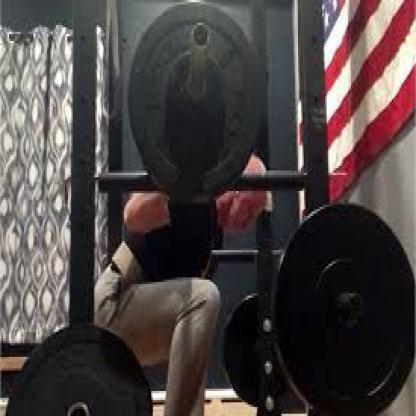barbell: (223, 204, 416, 416), (127, 0, 266, 203), (4, 324, 154, 416)
